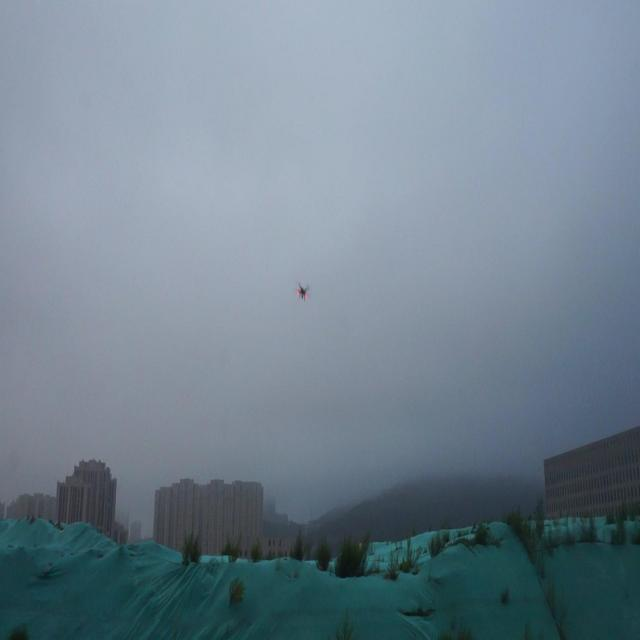UAV: (294, 282, 309, 302)
